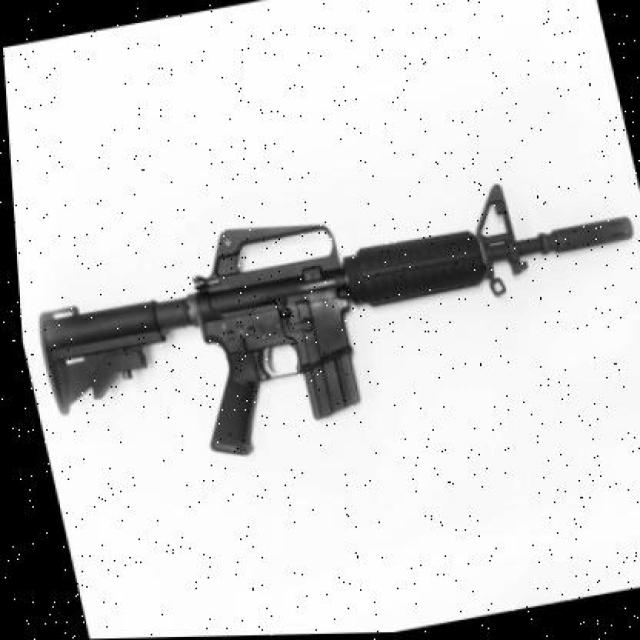weapon: (39, 186, 632, 460)
